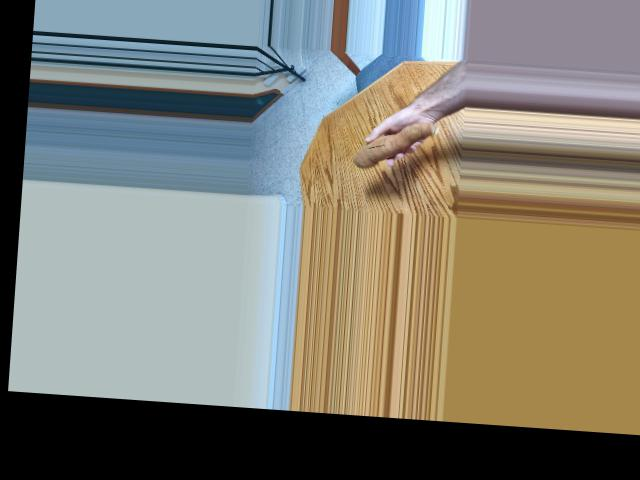sweet_potato: (350, 111, 441, 174)
